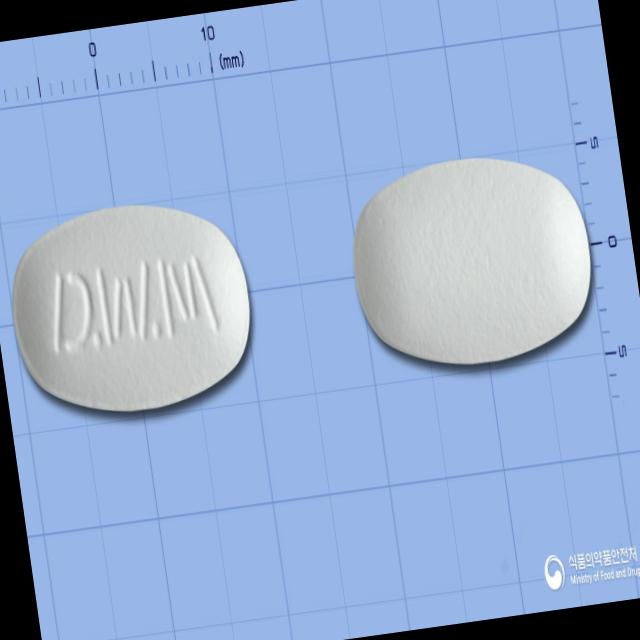Moxicle: (1, 189, 264, 428)
